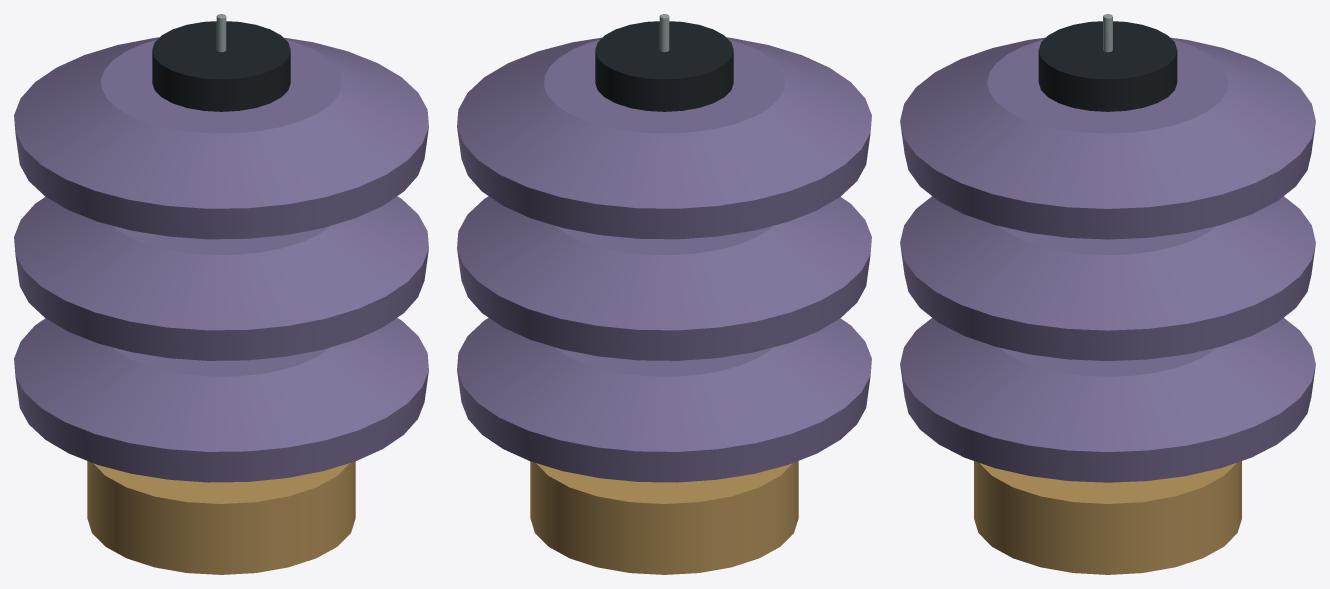
3 views of the same model, side by side, from view 1: azimuth 30°, elevation 25°; view 2: azimuth 150°, elevation 25°; view 3: azimuth 270°, elevation 25° (orthographic).
Visible parts, largest first — view 1: Environmental circulation disk.002, Environmental circulation disk, Environmental circulation disk.001, Foundation drum, Disk connecting neck.002; view 2: Environmental circulation disk.002, Environmental circulation disk, Environmental circulation disk.001, Foundation drum, Disk connecting neck.002; view 3: Environmental circulation disk.002, Environmental circulation disk, Environmental circulation disk.001, Foundation drum, Disk connecting neck.002.
Boxes of the visible parts, left/top/right/bottom form: Environmental circulation disk.002: left=14, top=37, right=428, bottom=239; Environmental circulation disk: left=14, top=318, right=428, bottom=482; Environmental circulation disk.001: left=14, top=196, right=428, bottom=360; Foundation drum: left=87, top=461, right=355, bottom=574; Disk connecting neck.002: left=152, top=21, right=290, bottom=111; Environmental circulation disk.002: left=457, top=37, right=871, bottom=239; Environmental circulation disk: left=457, top=318, right=871, bottom=482; Environmental circulation disk.001: left=457, top=196, right=871, bottom=360; Foundation drum: left=530, top=461, right=798, bottom=574; Disk connecting neck.002: left=595, top=21, right=733, bottom=111; Environmental circulation disk.002: left=900, top=37, right=1315, bottom=239; Environmental circulation disk: left=900, top=318, right=1315, bottom=482; Environmental circulation disk.001: left=900, top=196, right=1315, bottom=360; Foundation drum: left=974, top=461, right=1241, bottom=574; Disk connecting neck.002: left=1038, top=21, right=1177, bottom=111.
Size of the model in its own units: 1.86 by 2.48 by 1.86.
